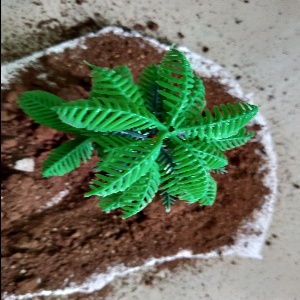plant: (18, 47, 254, 226)
